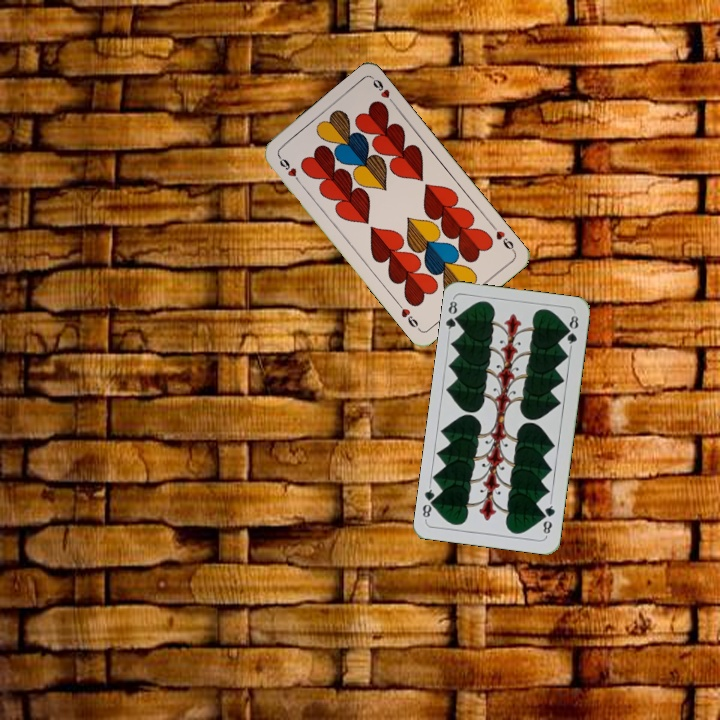G8: (442, 295, 464, 336), (539, 498, 558, 538)
H9: (274, 151, 304, 186), (488, 221, 518, 255)
